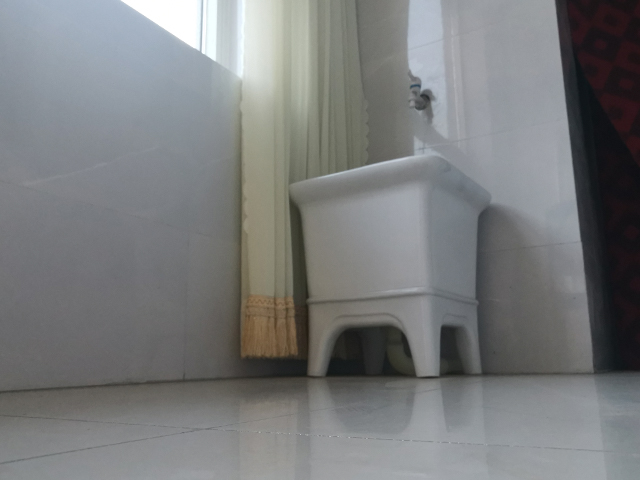curtain: (236, 1, 376, 363)
